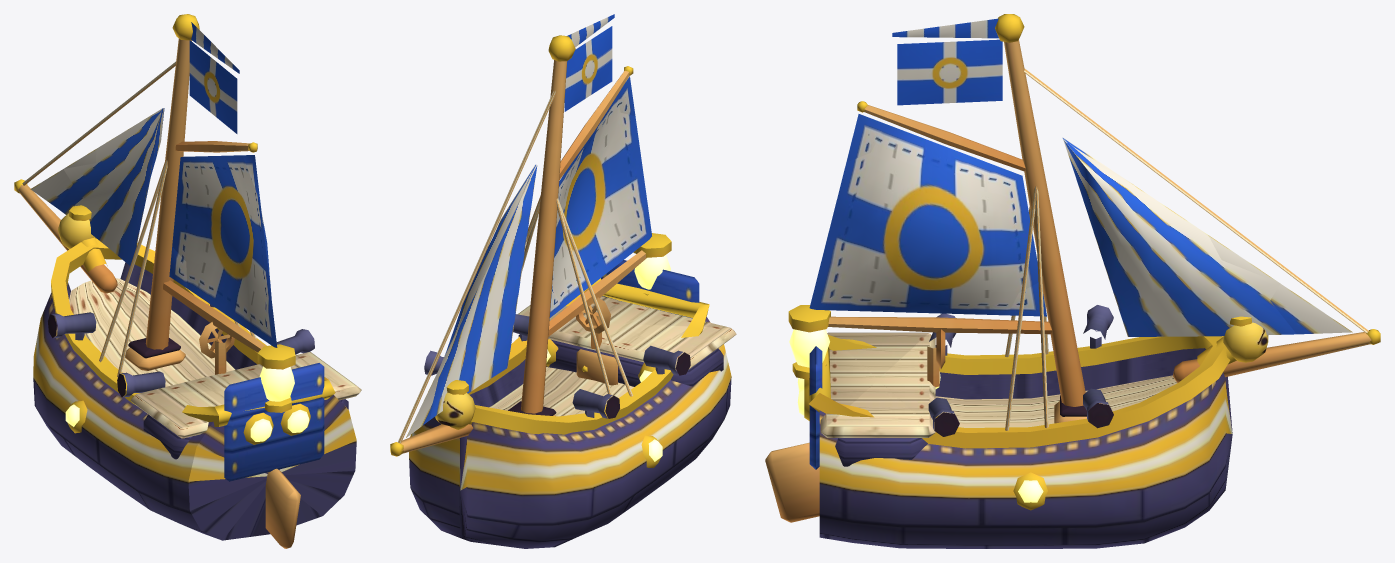
File: enemy_cutter.glb
3 renders of one model, left to right at view 1: azimuth 30°, elevation 25°; view 2: azimuth 150°, elevation 25°; view 3: azimuth 270°, elevation 25°, orthographic. The views are drawn at different scales.
Parts seen in each view (by area): view 1: Hull, Sail0_0, Rigging, Jib, Flag, Guns0; view 2: Hull, Rigging, Sail0_0, Jib, Flag, Guns0; view 3: Hull, Sail0_0, Jib, Rigging, Flag, Guns0.
Part boxes in pixels (x1,y1,x2,y2): Hull: (33,205,361,548); Sail0_0: (169,155,277,347); Rigging: (14,14,265,376); Jib: (30,108,164,265); Flag: (189,22,239,133); Guns0: (48,303,314,397); Hull: (409,233,736,548); Rigging: (390,35,646,456); Sail0_0: (549,76,651,317); Jib: (406,164,537,437); Flag: (564,14,614,111); Guns0: (424,314,690,418); Hull: (765,305,1268,548); Sail0_0: (809,114,1046,316); Jib: (1062,137,1352,336); Rigging: (828,14,1380,430); Flag: (892,18,1002,105); Guns0: (928,305,1113,436).
Bounding box in the file's own units: 1.1 × 2.24 × 2.46.
8 materials, 8 textured.
